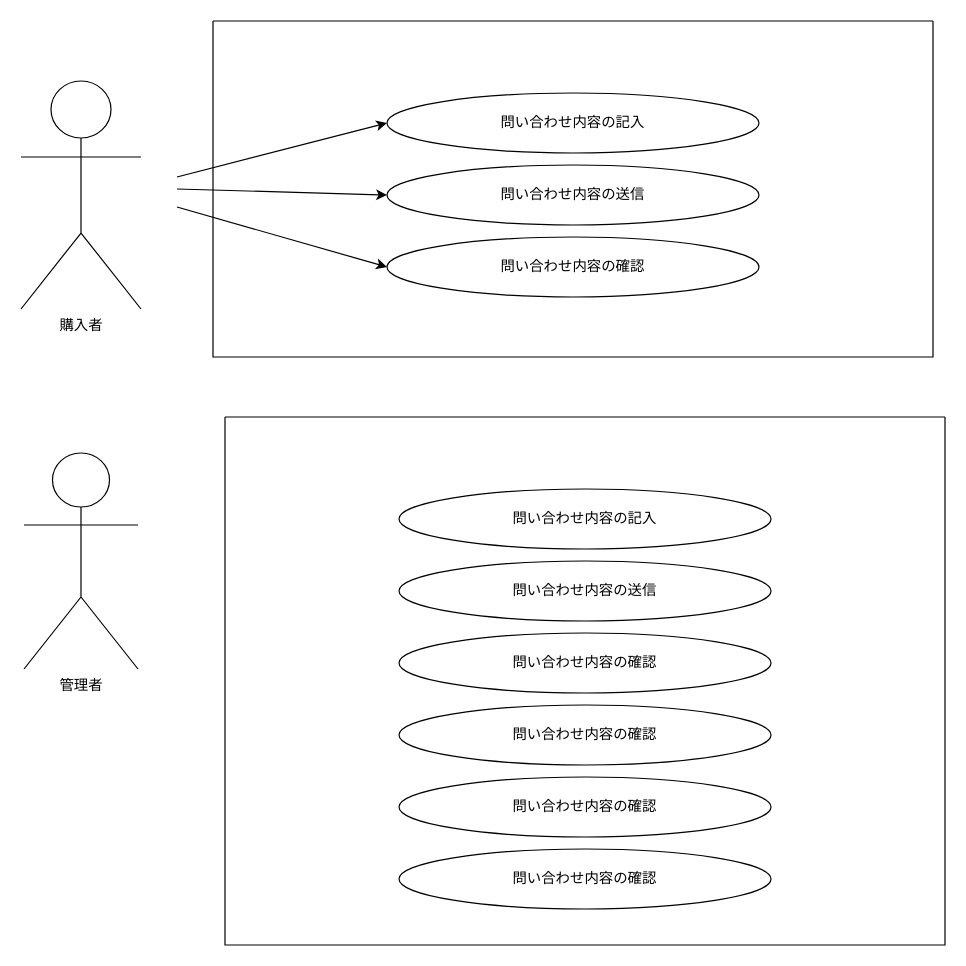
The diagram is 966 pixels wide and 966 high, and some of its shapes have lost their labels. Each missing label, with the box of its shape:
問い合わせ管理システム: (224, 416, 945, 945)
問い合わせ送信システム: (212, 20, 933, 357)
